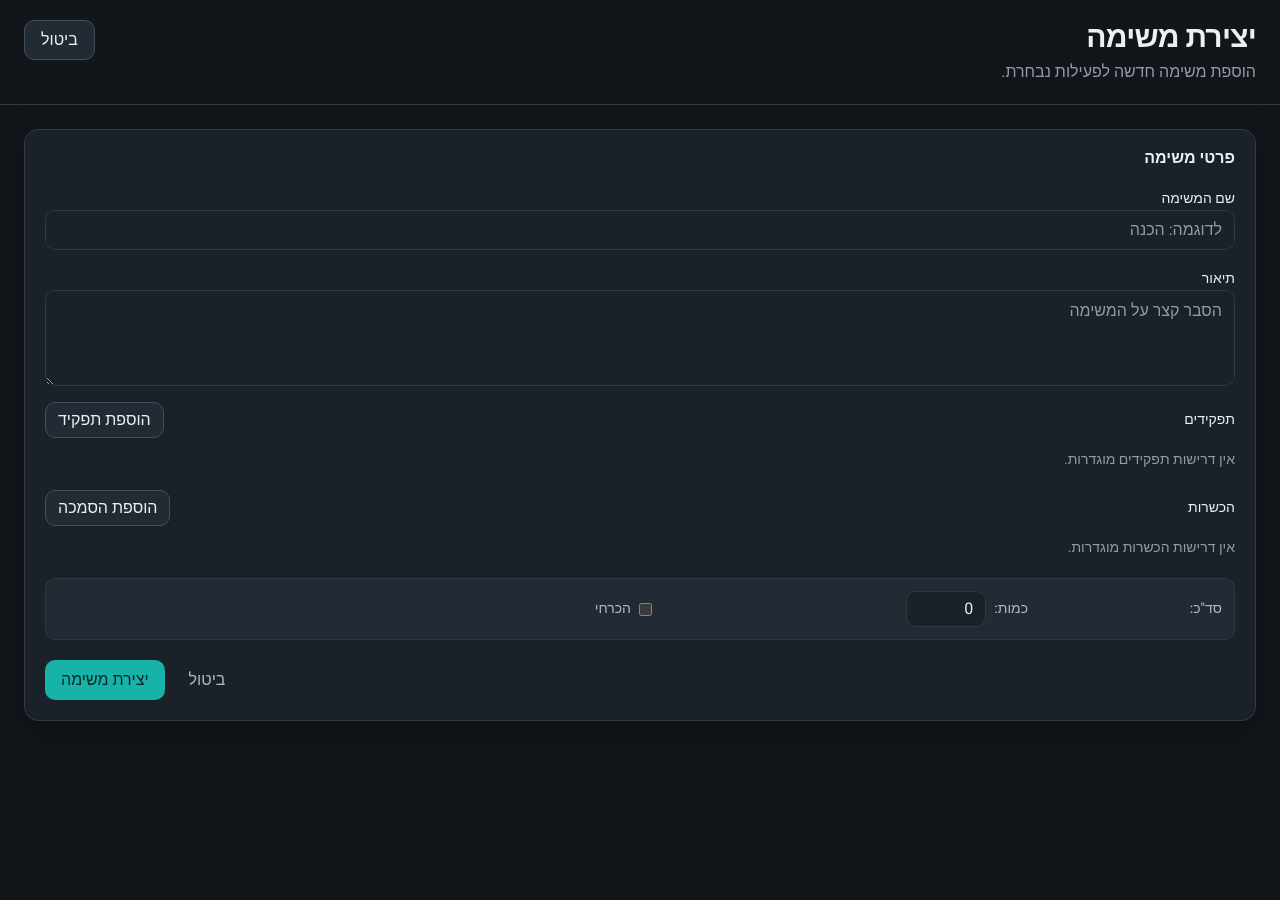
Test: ActivityTaskCreatePage › validates required name before submission
Click the button "יצירת משימה".
click(105, 680)  # box [45,660,165,700]
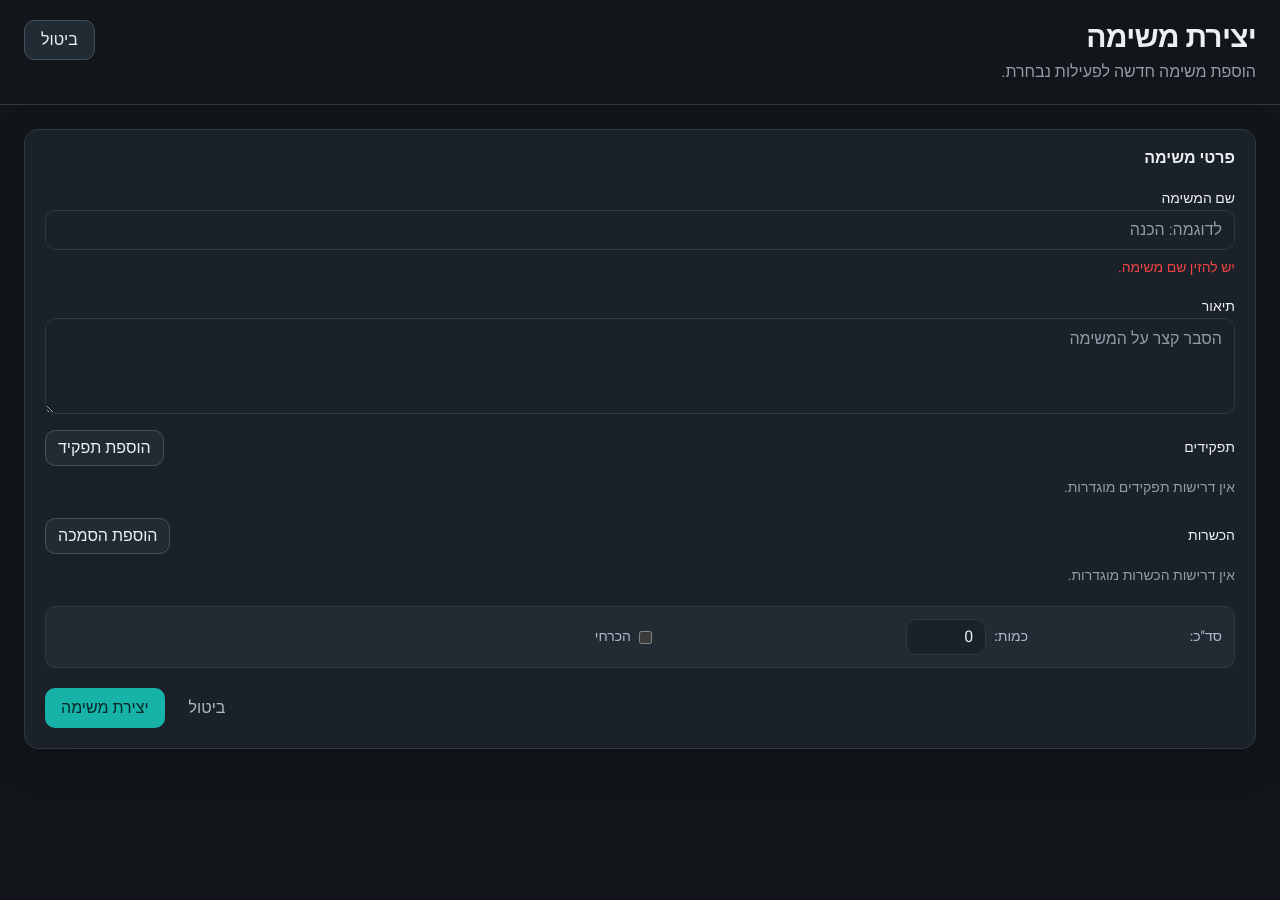
Result: the text "יש להזין שם משימה." is shown at [1118,257,1235,278]
